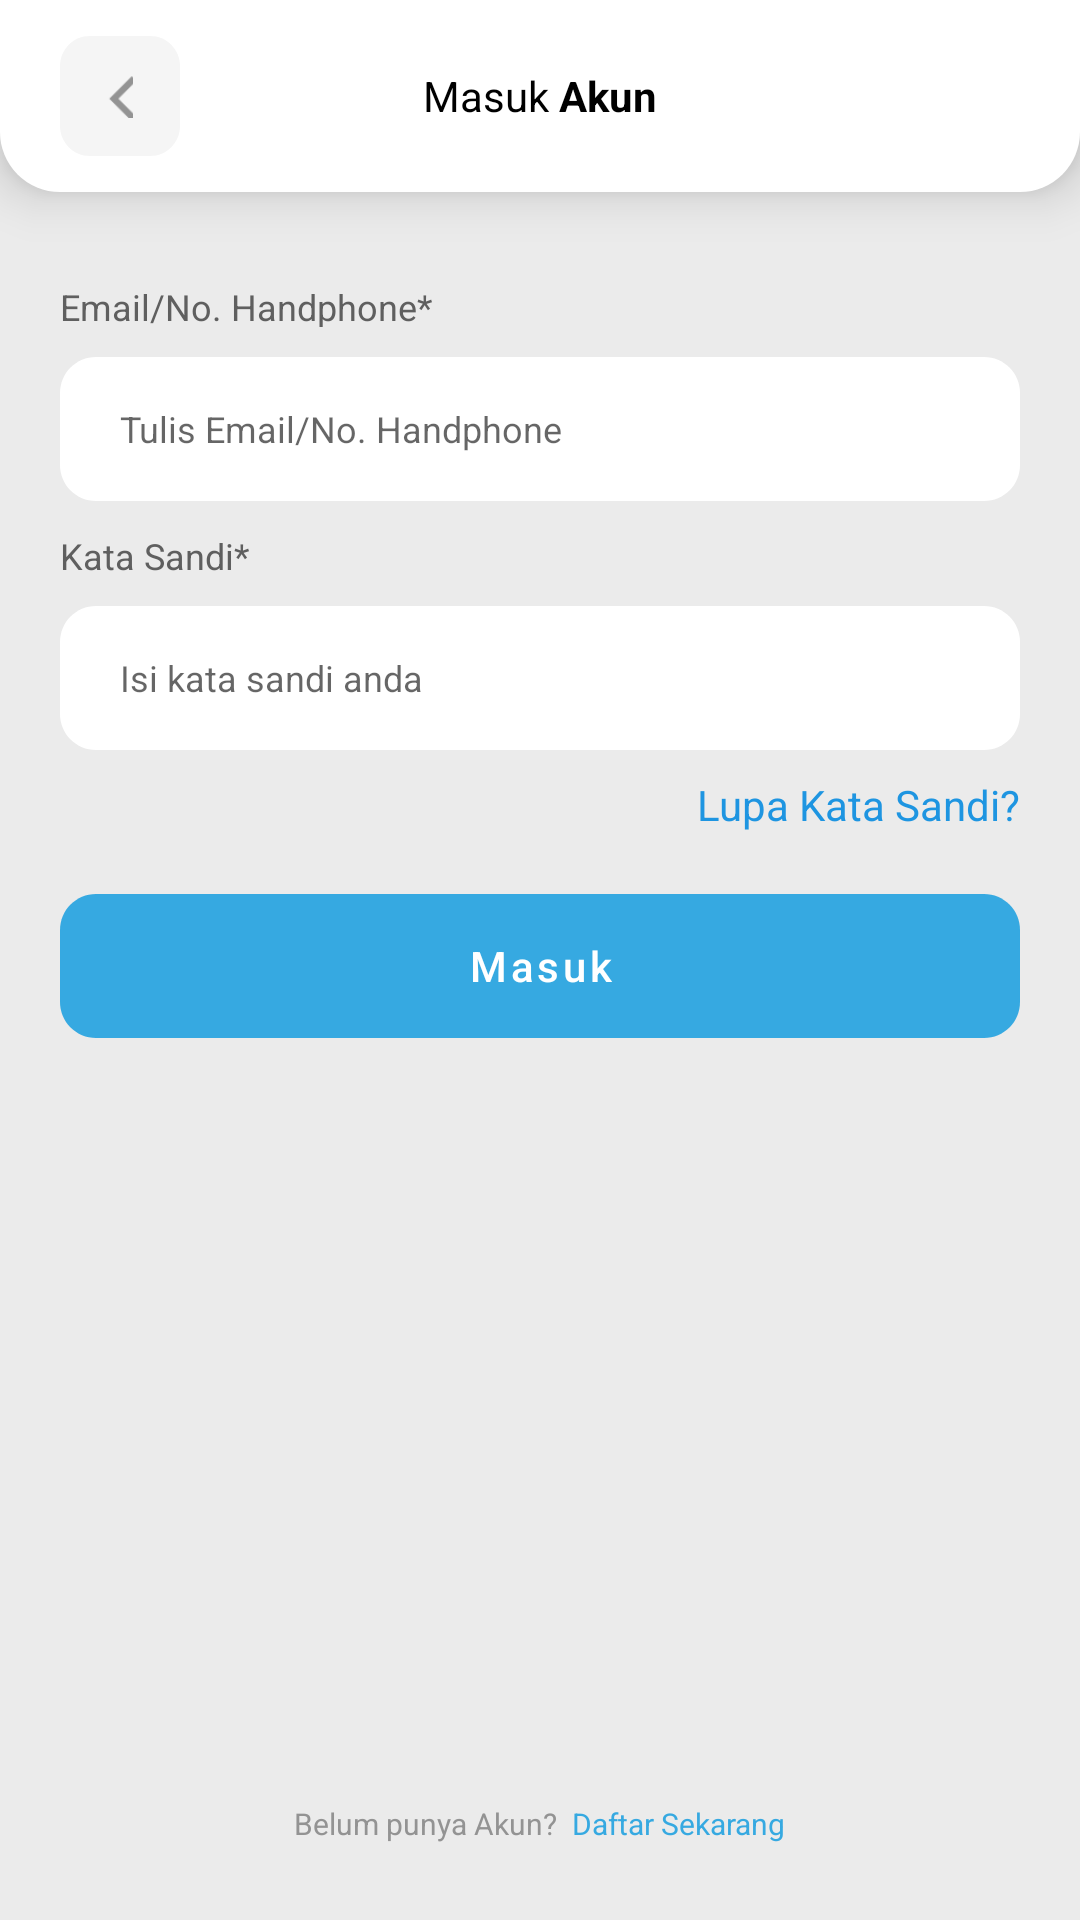

Icon click points for this 1080x1920 phone screenshot, format (x,y):
back: (121,97)
